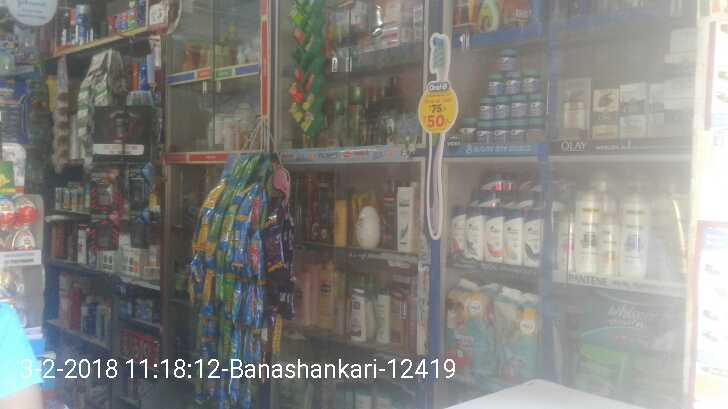beauty: (620, 199, 647, 282), (572, 189, 597, 276), (591, 86, 620, 141), (595, 210, 619, 274), (620, 79, 646, 138), (523, 206, 544, 267), (464, 205, 485, 260), (505, 207, 524, 264), (486, 207, 505, 263), (453, 206, 466, 264)
pharmacy: (577, 291, 686, 352), (442, 283, 494, 373), (492, 280, 537, 380), (492, 49, 519, 73), (482, 71, 500, 99), (520, 71, 540, 95), (473, 125, 489, 151), (527, 94, 545, 117), (490, 123, 506, 147), (505, 73, 519, 98), (508, 127, 525, 146), (492, 99, 508, 119), (510, 100, 524, 119), (479, 100, 493, 119)
